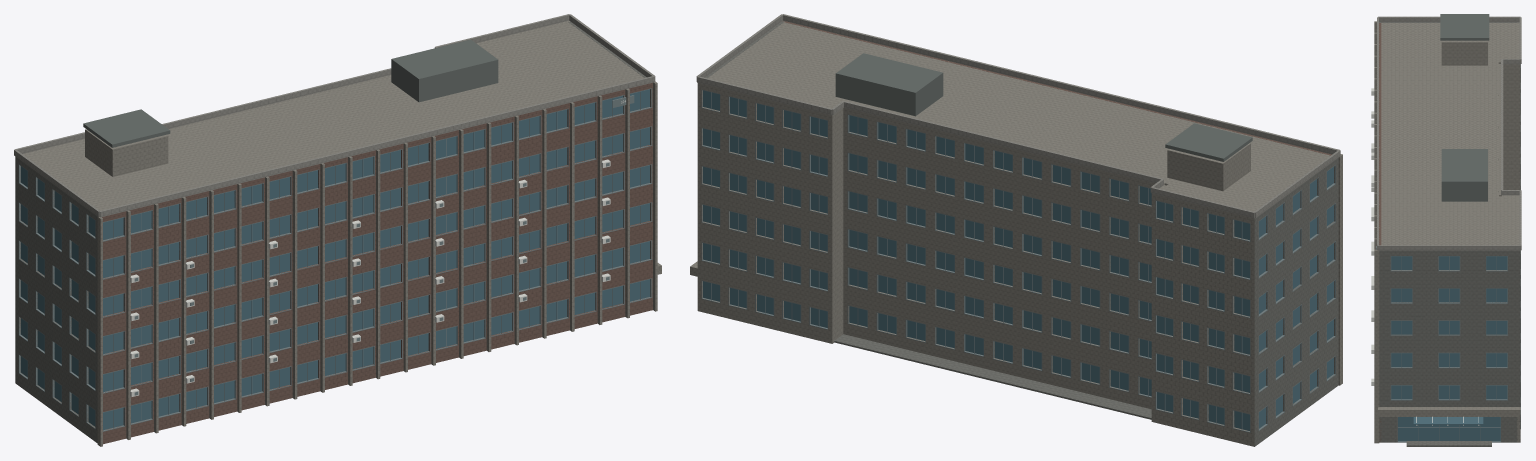
The picture shows the model from 3 angles, left to right: view 1: azimuth 30°, elevation 25°; view 2: azimuth 150°, elevation 25°; view 3: azimuth 270°, elevation 25°; orthographic projection. The views are drawn at different scales.
Parts seen in each view (by area): view 1: oesol__salmon, oesol__cream, oesol__glass, oesol__frame, oesol__rough, oesol__stone, oesol__roof, oesol__light; view 2: oesol__cream, oesol__glass, oesol__rough, oesol__frame, oesol__stone, oesol__roof, oesol__salmon; view 3: oesol__cream, oesol__rough, oesol__glass, oesol__roof, oesol__stone, oesol__frame, oesol__salmon, oesol__light.
Part boxes in pixels (x1,y1,x2,y2): oesol__salmon: (102, 82, 652, 444); oesol__cream: (23, 20, 661, 446); oesol__glass: (21, 89, 650, 430); oesol__frame: (18, 88, 652, 431); oesol__rough: (15, 21, 651, 443); oesol__stone: (14, 14, 655, 217); oesol__roof: (83, 39, 498, 147); oesol__light: (130, 159, 610, 396); oesol__cream: (690, 22, 1342, 446); oesol__glass: (703, 90, 1333, 430); oesol__rough: (705, 21, 1338, 446); oesol__frame: (701, 89, 1335, 432); oesol__stone: (696, 14, 1340, 218); oesol__roof: (835, 53, 1252, 161); oesol__salmon: (782, 21, 1331, 155); oesol__cream: (1374, 21, 1520, 443); oesol__rough: (1379, 22, 1520, 446); oesol__glass: (1391, 256, 1507, 441); oesol__roof: (1440, 14, 1489, 201); oesol__stone: (1377, 16, 1521, 250); oesol__frame: (1376, 64, 1520, 442); oesol__salmon: (1379, 23, 1381, 441); oesol__light: (1371, 88, 1479, 425).
Size of the model in its own units: 72.53 by 31.4 by 19.42.
Materials: 8 (4 with a texture image).
